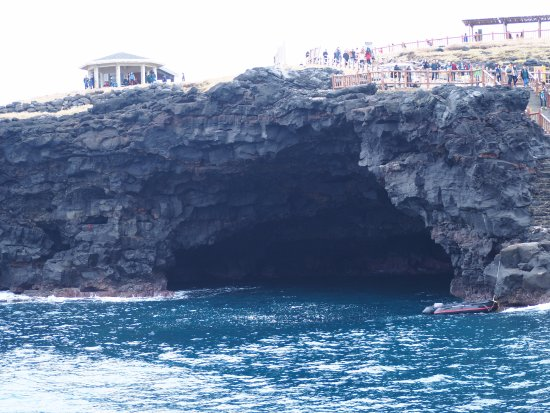volcanic_rock: (2, 123, 165, 284), (357, 105, 546, 199), (443, 138, 550, 286), (100, 109, 352, 170)
